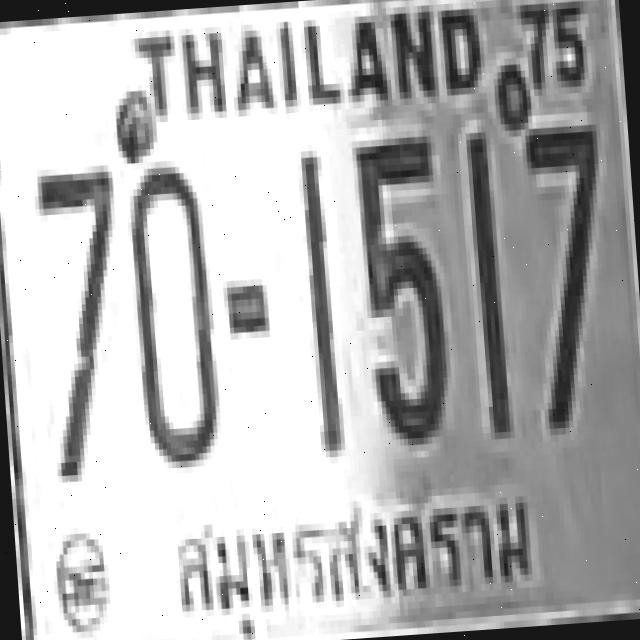0: (125, 158, 221, 463)
1: (296, 150, 341, 451), (464, 132, 508, 433)
5: (352, 130, 448, 440)
7: (32, 161, 133, 479), (520, 118, 612, 428)
SamutSongkhram: (159, 475, 563, 640)
